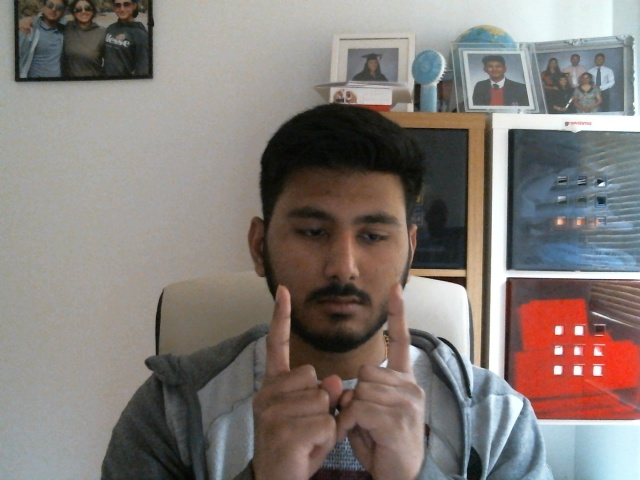meet: (258, 284, 419, 437)
